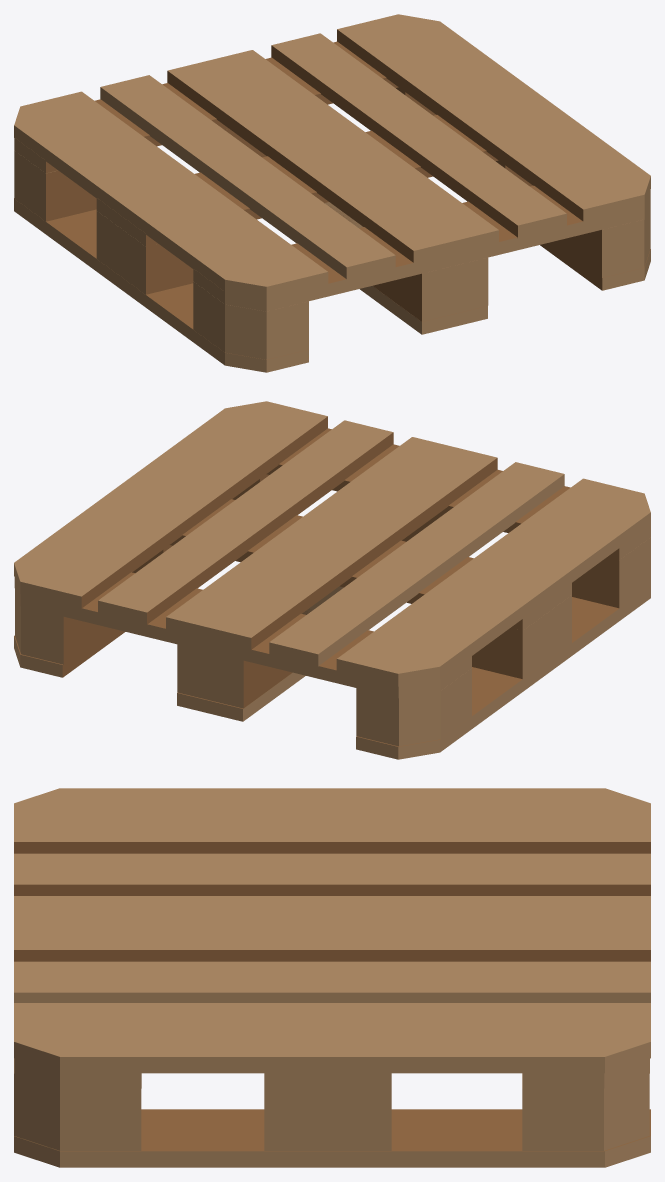
Rendered from WoodenPallet.fbx.
3 renders of one model, top to bottom at view 1: azimuth 30°, elevation 25°; view 2: azimuth 150°, elevation 25°; view 3: azimuth 270°, elevation 25°, orthographic. The views are drawn at different scales.
Visible parts, largest first — view 1: Cube.008; view 2: Cube.008; view 3: Cube.008.
Part boxes in pixels (x1,y1,x2,y2): Cube.008: (14, 14, 650, 372); Cube.008: (14, 401, 650, 759); Cube.008: (14, 788, 650, 1167).
Bounding box in the file's own units: 399 × 76.87 × 400.
